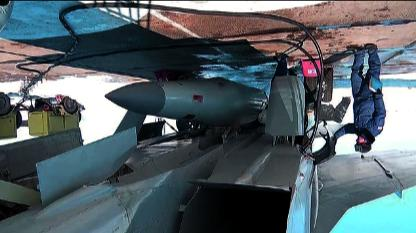Mig31: (0, 66, 415, 233)
